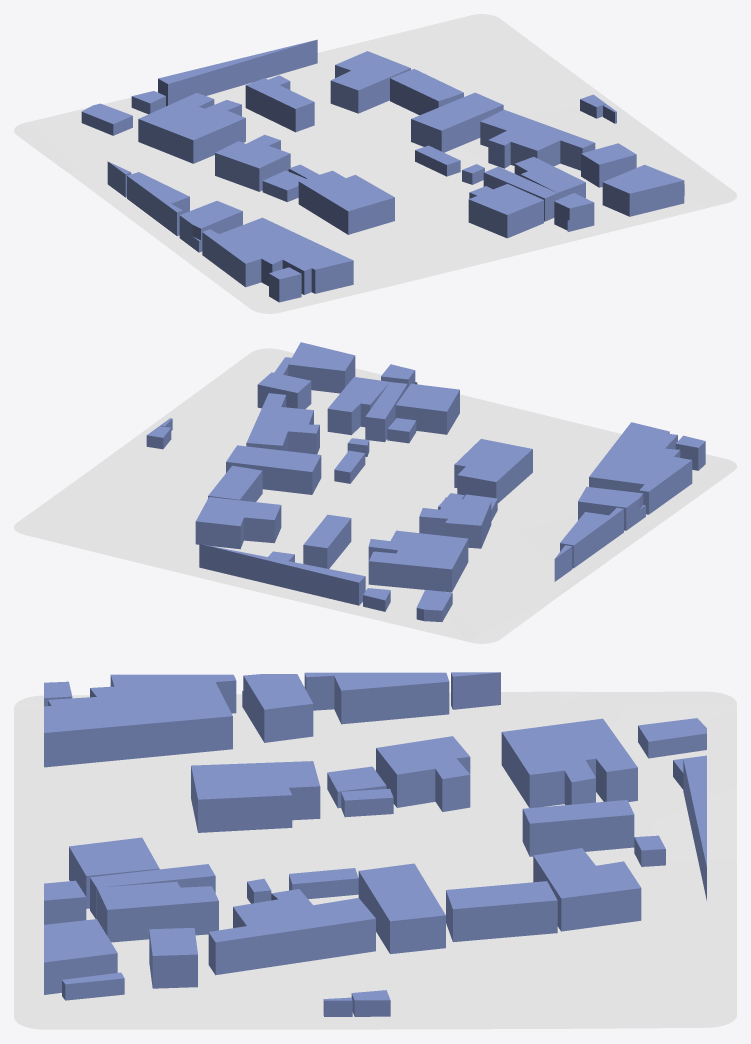
File: cad-atlas_3D.obj
3 renders of one model, top to bottom at view 1: azimuth 30°, elevation 25°; view 2: azimuth 150°, elevation 25°; view 3: azimuth 270°, elevation 25°, orthographic. The views are drawn at different scales.
Size of the model in its own units: 132 by 6.83 by 121.
